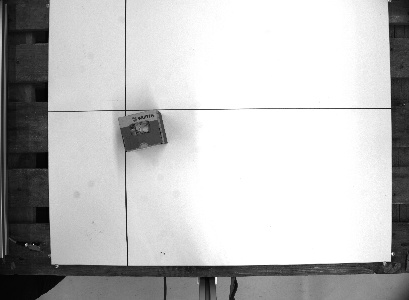b7: (116, 107, 171, 152)
